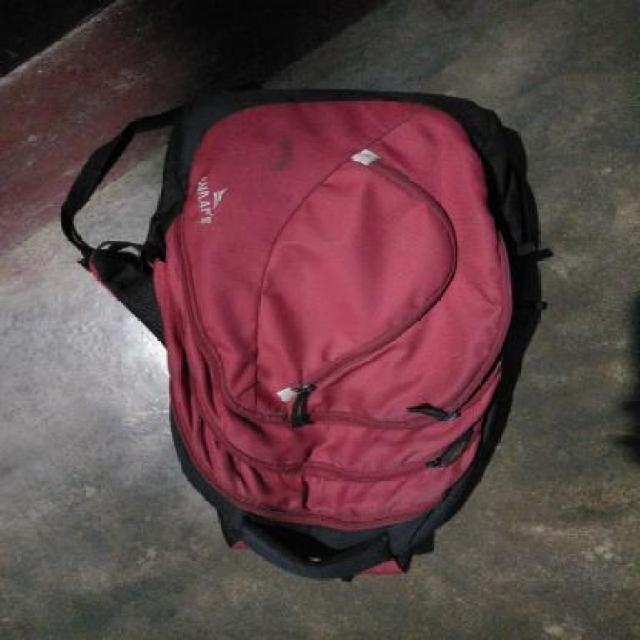backpack: (83, 82, 555, 588)
